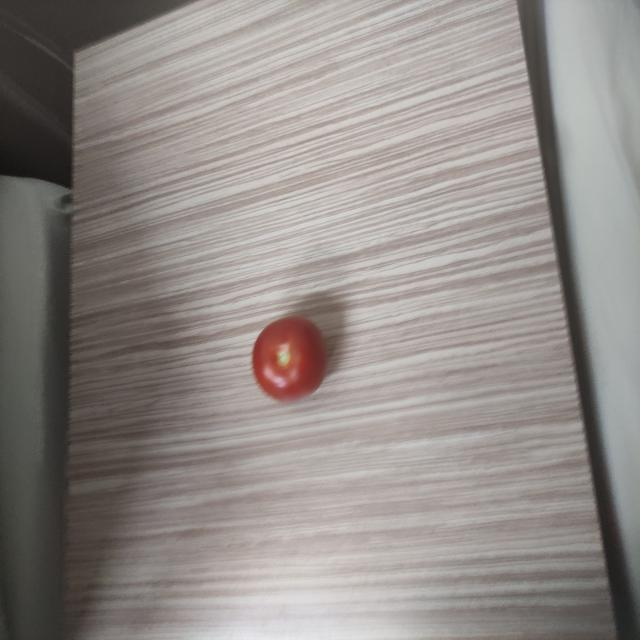kirmizi: (241, 300, 349, 413)
